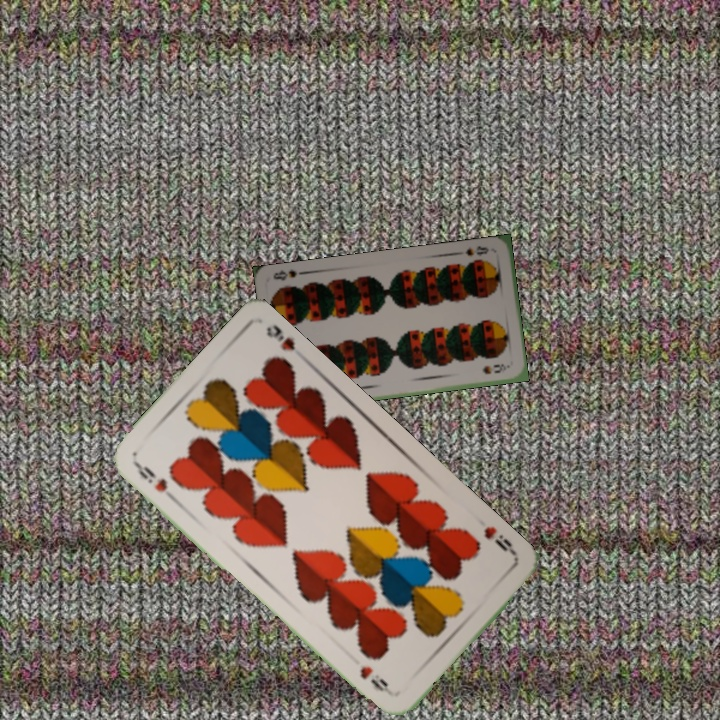H9: (130, 458, 179, 504), (479, 522, 520, 562)
S8: (461, 242, 491, 259)
